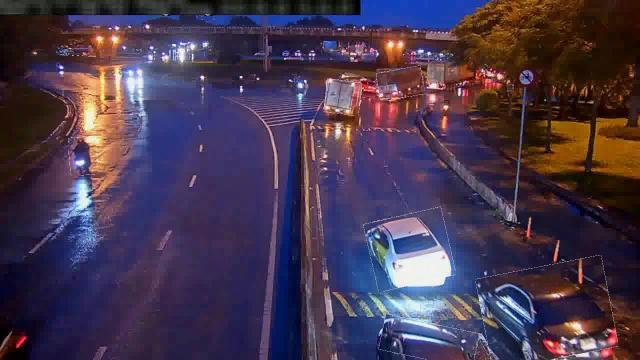Bike: (68, 136, 98, 176)
Car: (479, 261, 615, 360), (367, 210, 453, 288), (380, 318, 478, 360)
Truck: (376, 67, 424, 99), (324, 80, 362, 115)
